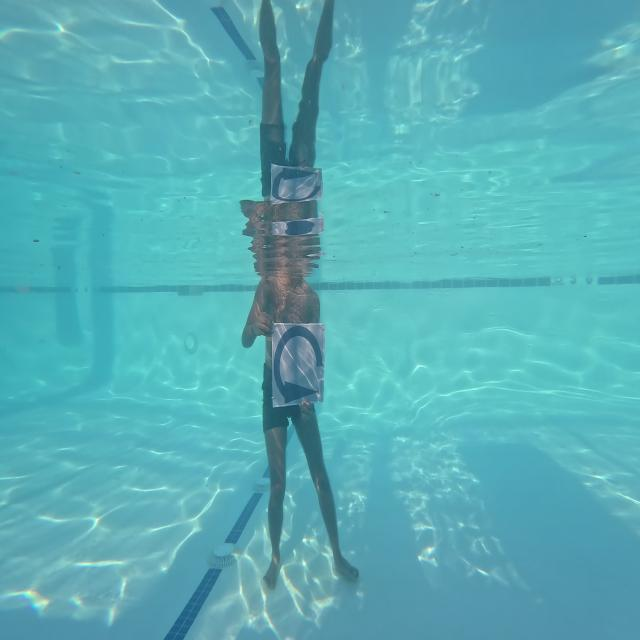blue_side: (271, 321, 324, 406)
